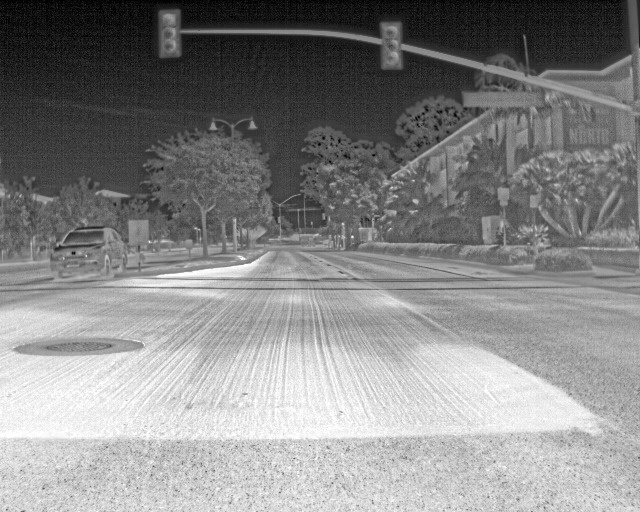vehicle: (50, 224, 128, 282)
